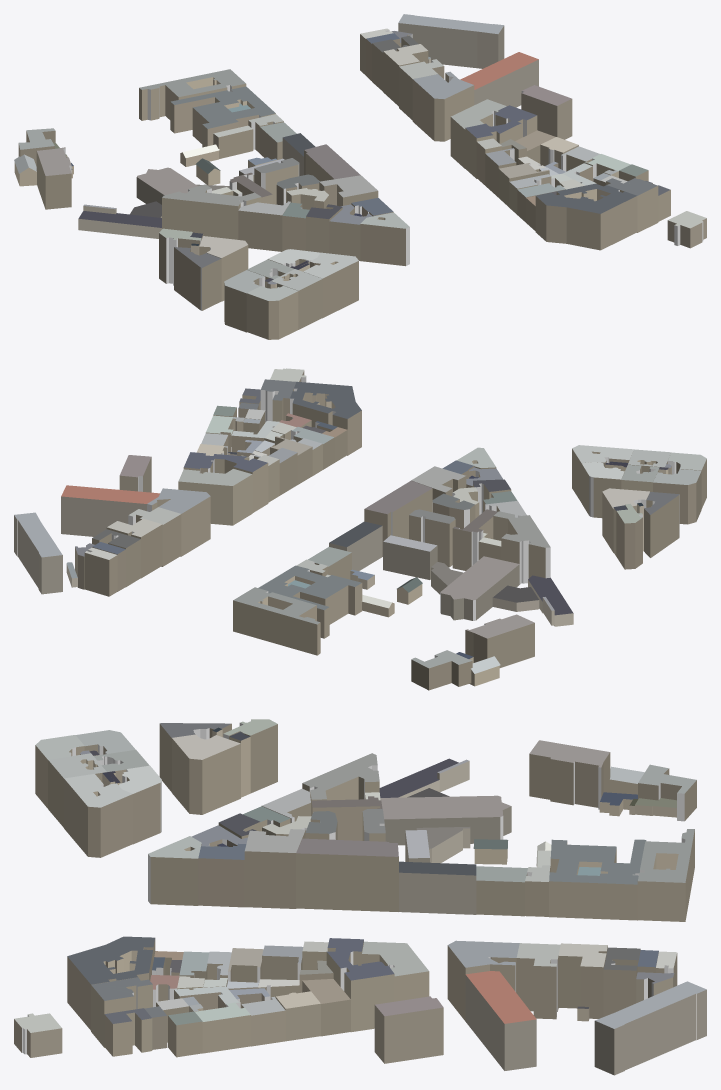
3 views of the same model, one above another, from view 1: azimuth 30°, elevation 25°; view 2: azimuth 150°, elevation 25°; view 3: azimuth 270°, elevation 25° (orthographic). The views are drawn at different scales.
Parts seen in each view (by area): view 1: tuile; view 2: tuile; view 3: tuile.
Boxes of the visible parts, x1,y1,x2,y2 form: tuile: [14, 14, 706, 339]; tuile: [14, 368, 706, 690]; tuile: [14, 719, 706, 1075].
Bounding box in the file's own units: 274 × 28.42 × 264.
